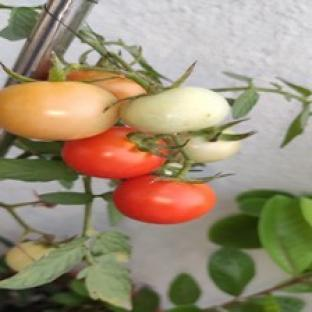Tomato: (0, 81, 118, 140), (63, 127, 165, 178), (120, 87, 229, 133), (113, 176, 215, 224), (67, 70, 146, 100), (183, 136, 240, 162), (6, 241, 54, 271)
